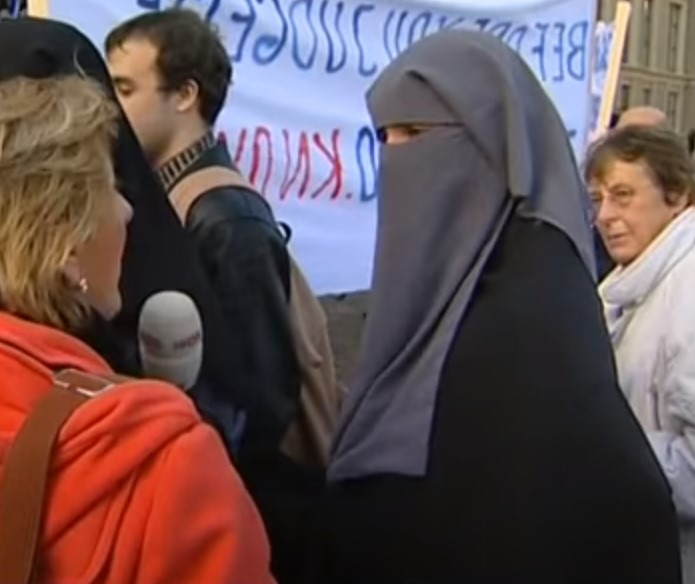face_no_mask: (2, 80, 140, 320), (99, 9, 229, 150), (582, 123, 690, 263)
